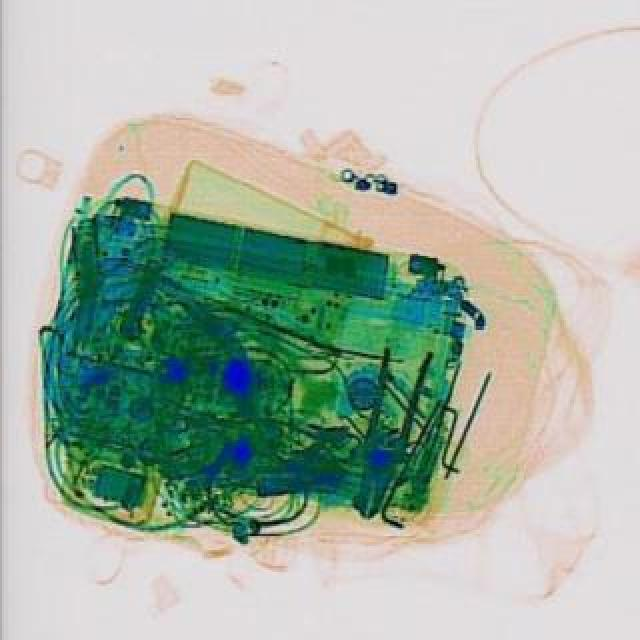wrench: (342, 346, 434, 526)
